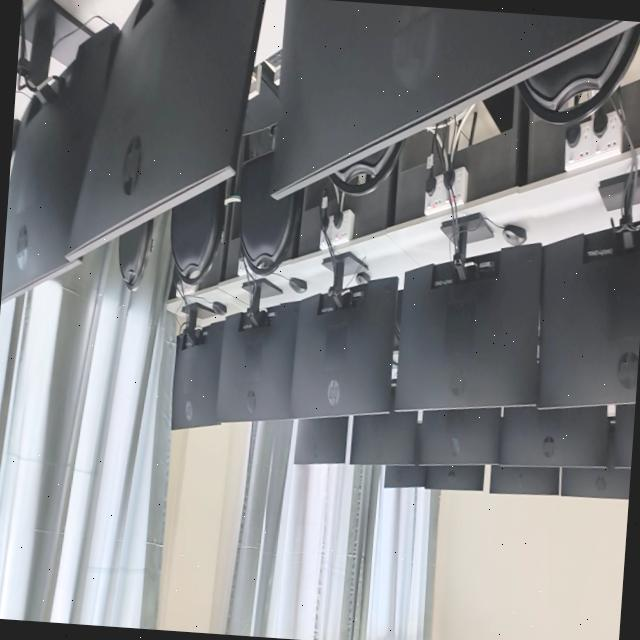Chair: (517, 22, 640, 124), (240, 63, 294, 276), (171, 181, 226, 285), (328, 140, 404, 196), (118, 220, 153, 290)
Cpu: (483, 87, 514, 132)
Keyboard: (265, 50, 281, 67)
Monitor: (270, 0, 634, 198), (67, 0, 265, 257), (0, 0, 119, 303), (394, 213, 542, 410), (539, 150, 640, 407), (291, 253, 398, 418), (217, 278, 298, 422), (171, 302, 224, 430), (498, 406, 609, 467), (420, 408, 501, 465), (350, 411, 417, 465), (294, 417, 348, 464), (560, 467, 630, 499), (489, 465, 559, 494), (610, 404, 635, 468), (425, 465, 484, 490), (384, 465, 425, 488), (10, 119, 20, 164), (323, 258, 333, 269)
Mouse: (503, 224, 526, 245), (289, 278, 307, 293), (355, 271, 370, 285), (212, 301, 227, 315)
